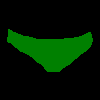mutande: (7, 28, 93, 72)
